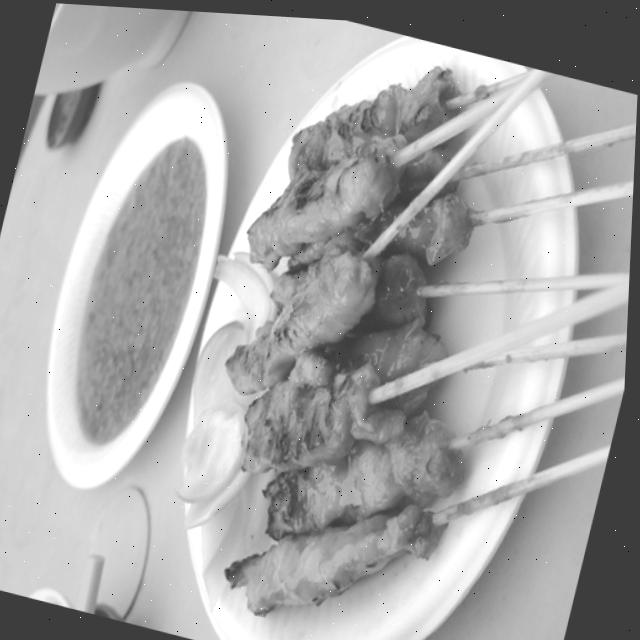牛肉菜式: (156, 10, 621, 640)
